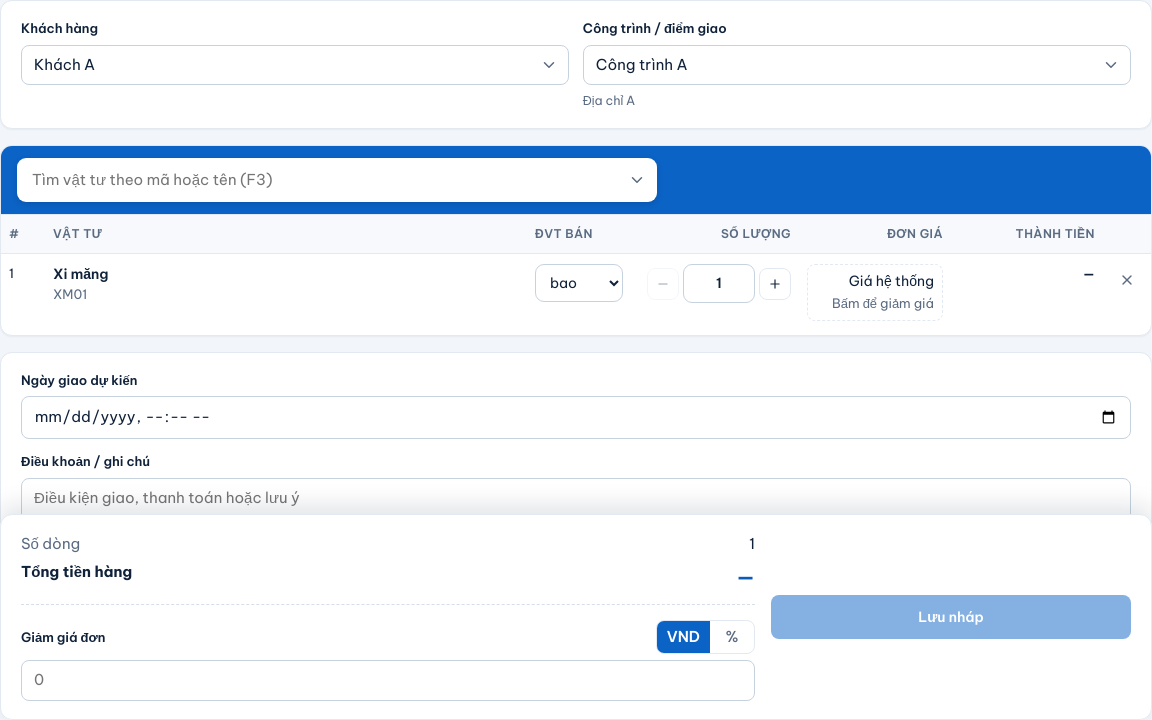
Test: automatically previews valid new input without writing a document
This screenshot has width=1152, height=720.
Replace the text in the field named "Số lượng dòng 1" with "2". click: coordinates (719, 284)
box: [683, 264, 755, 303]
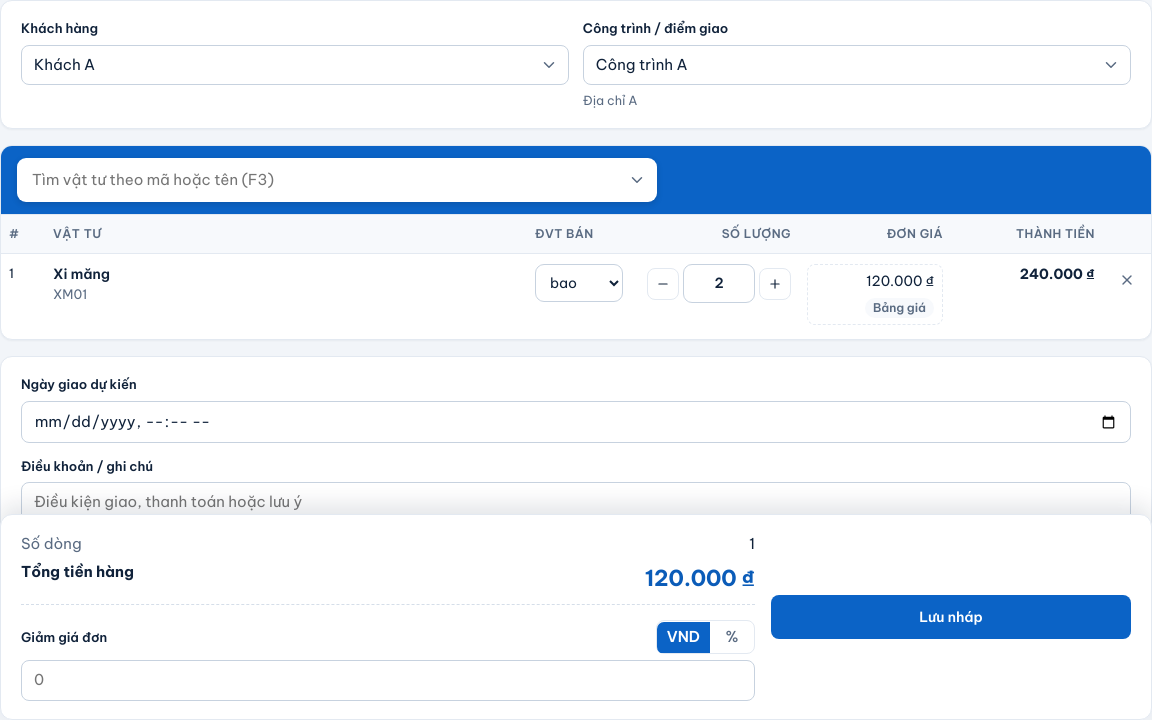
Check: the text "120.000 ₫" in the row of "Tổng tiền hàng" is shown, box [645, 564, 755, 592]
